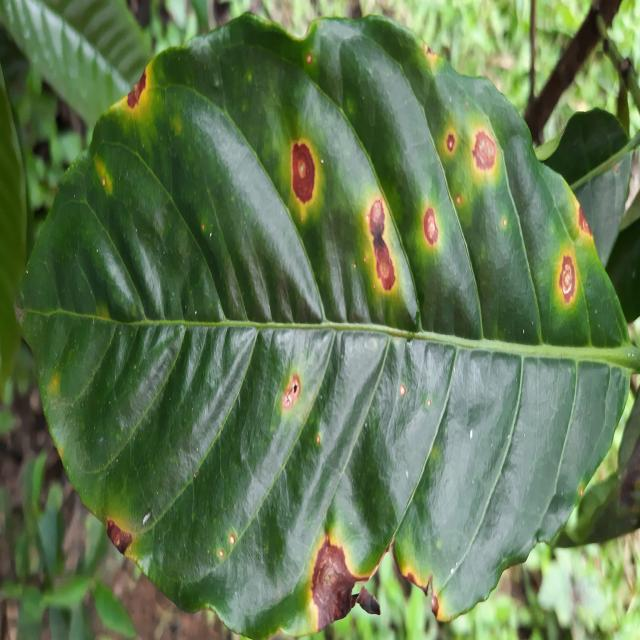Enfermedad-Mancha-de-hierro: (20, 14, 640, 640)
